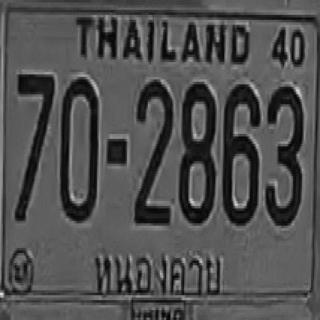N00: (60, 76, 99, 222)
N02: (134, 78, 173, 224)
N03: (264, 84, 302, 226)
N06: (221, 82, 259, 223)
N07: (14, 72, 55, 221)
N08: (178, 80, 216, 224)
P36: (89, 242, 225, 307)
